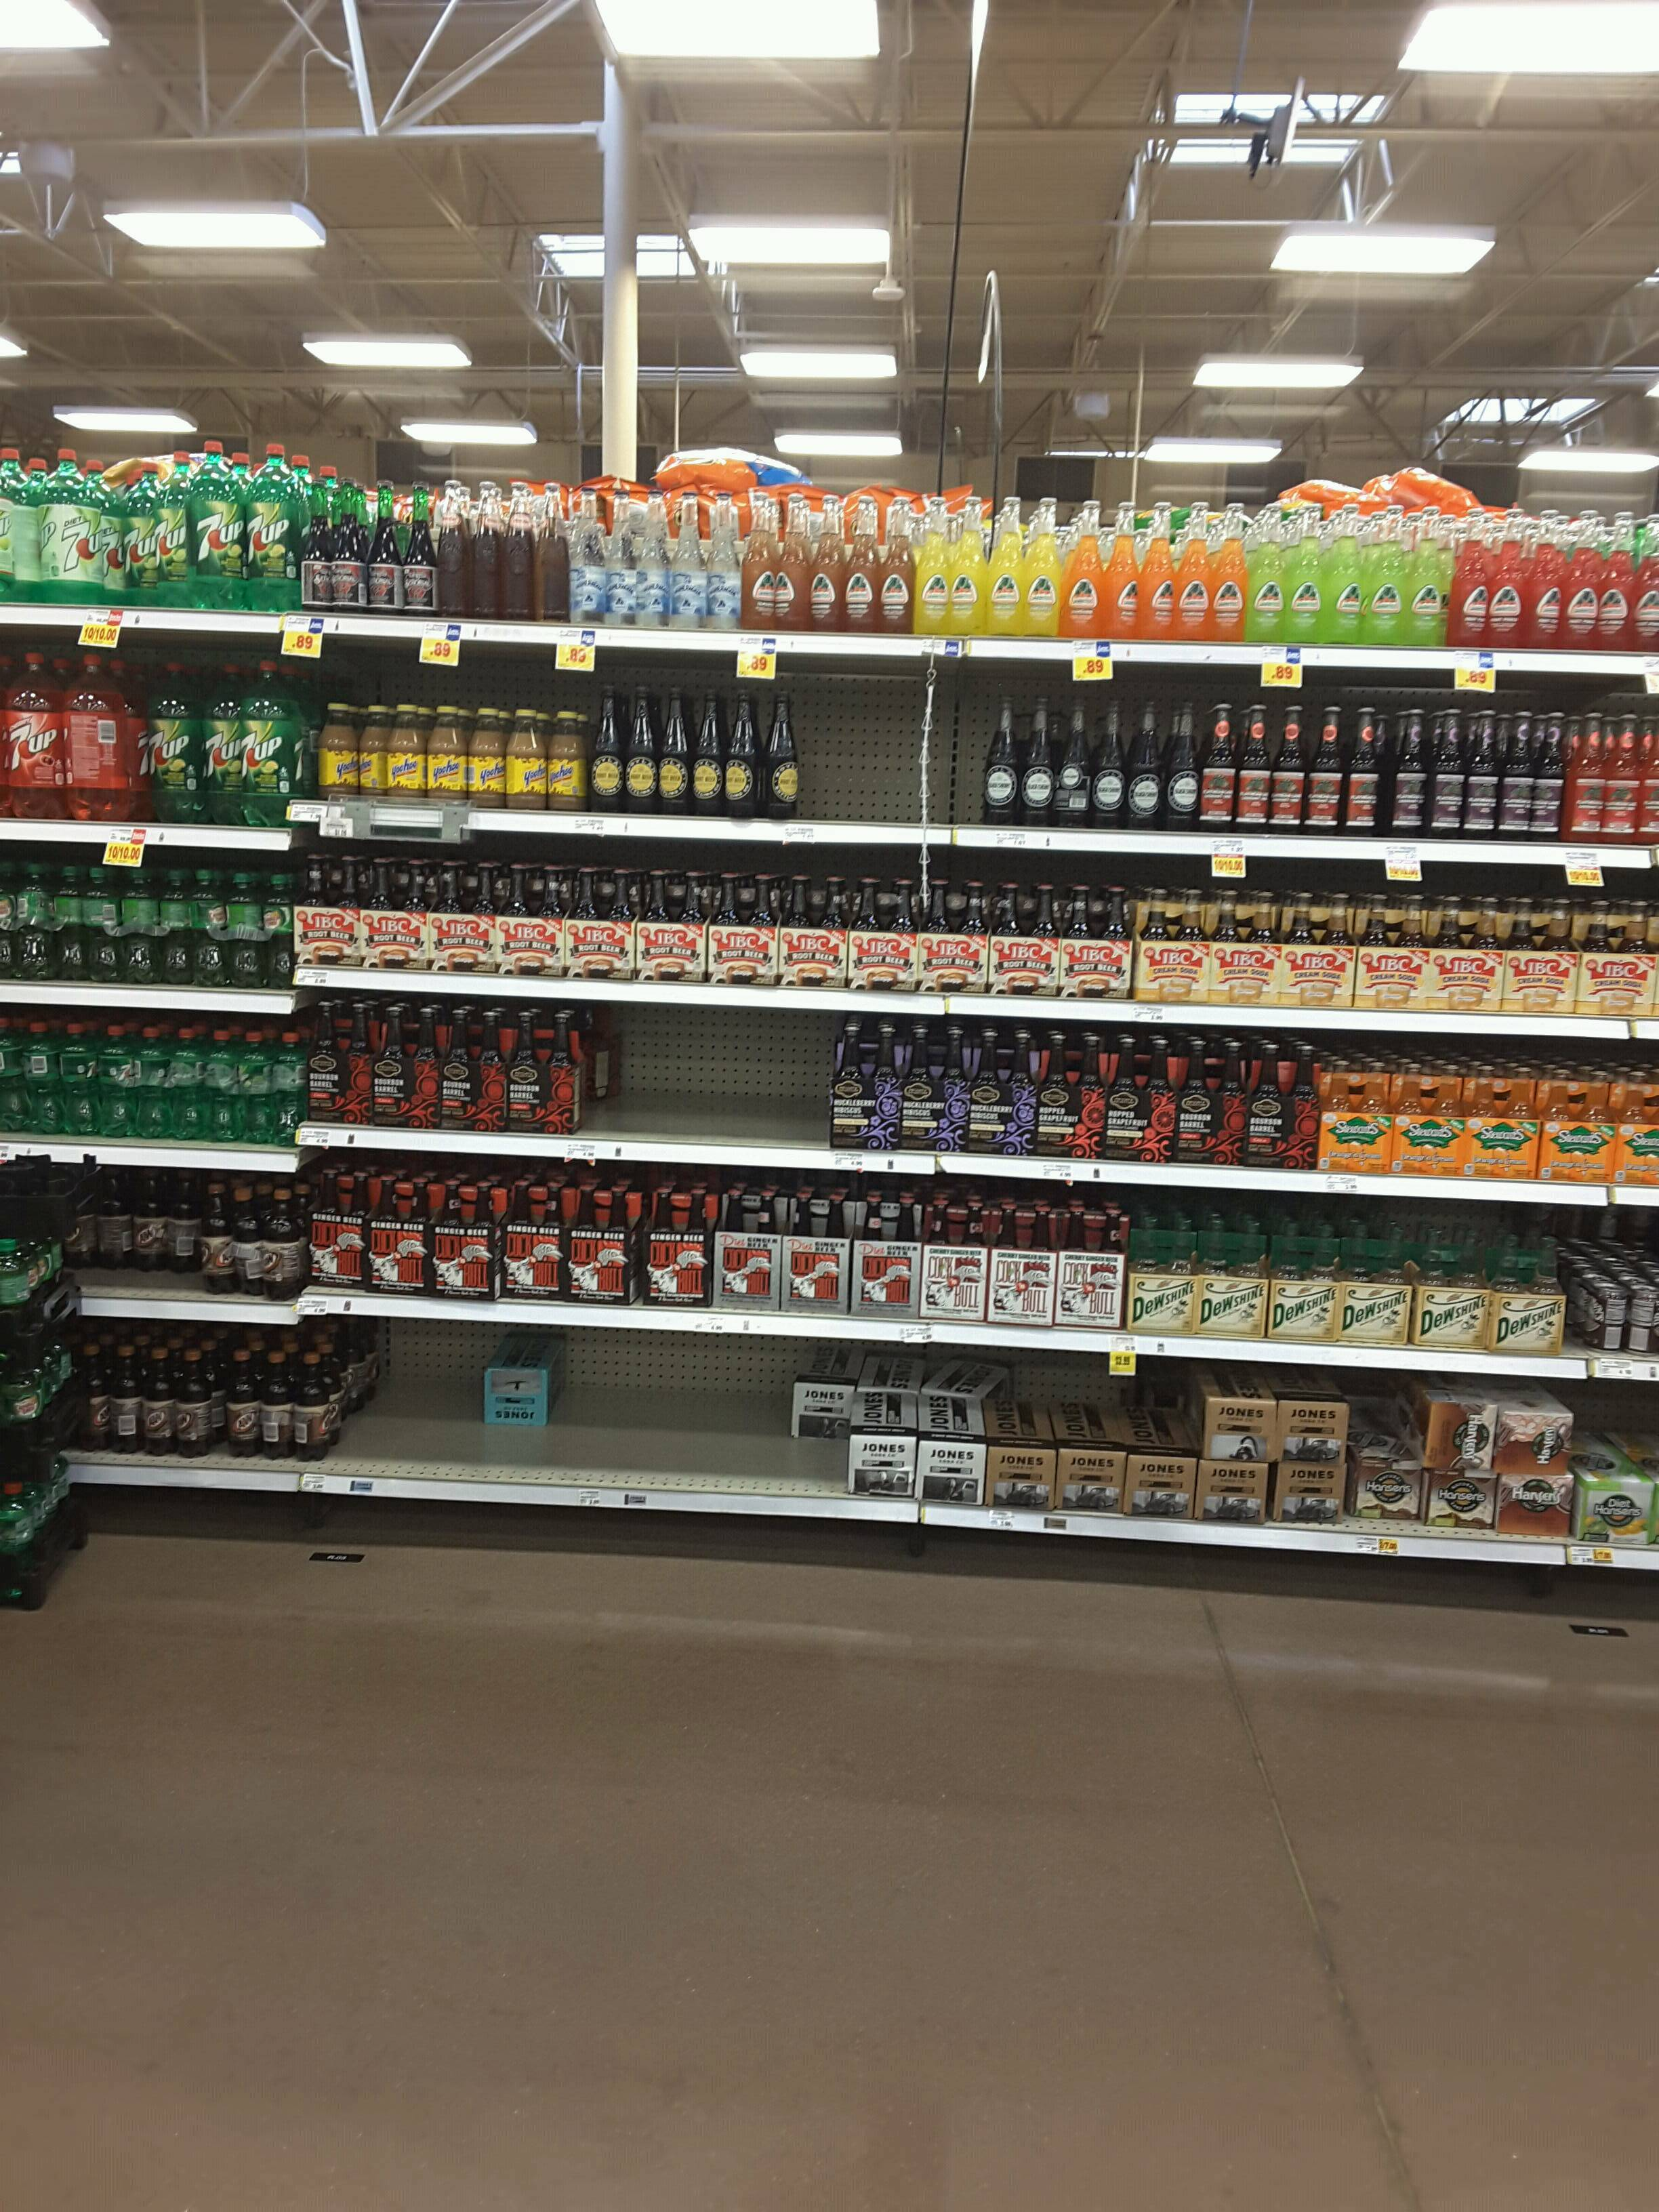Misplacement: (82, 1165, 202, 1298)
Out-of-stock: (622, 1005, 826, 1150)
